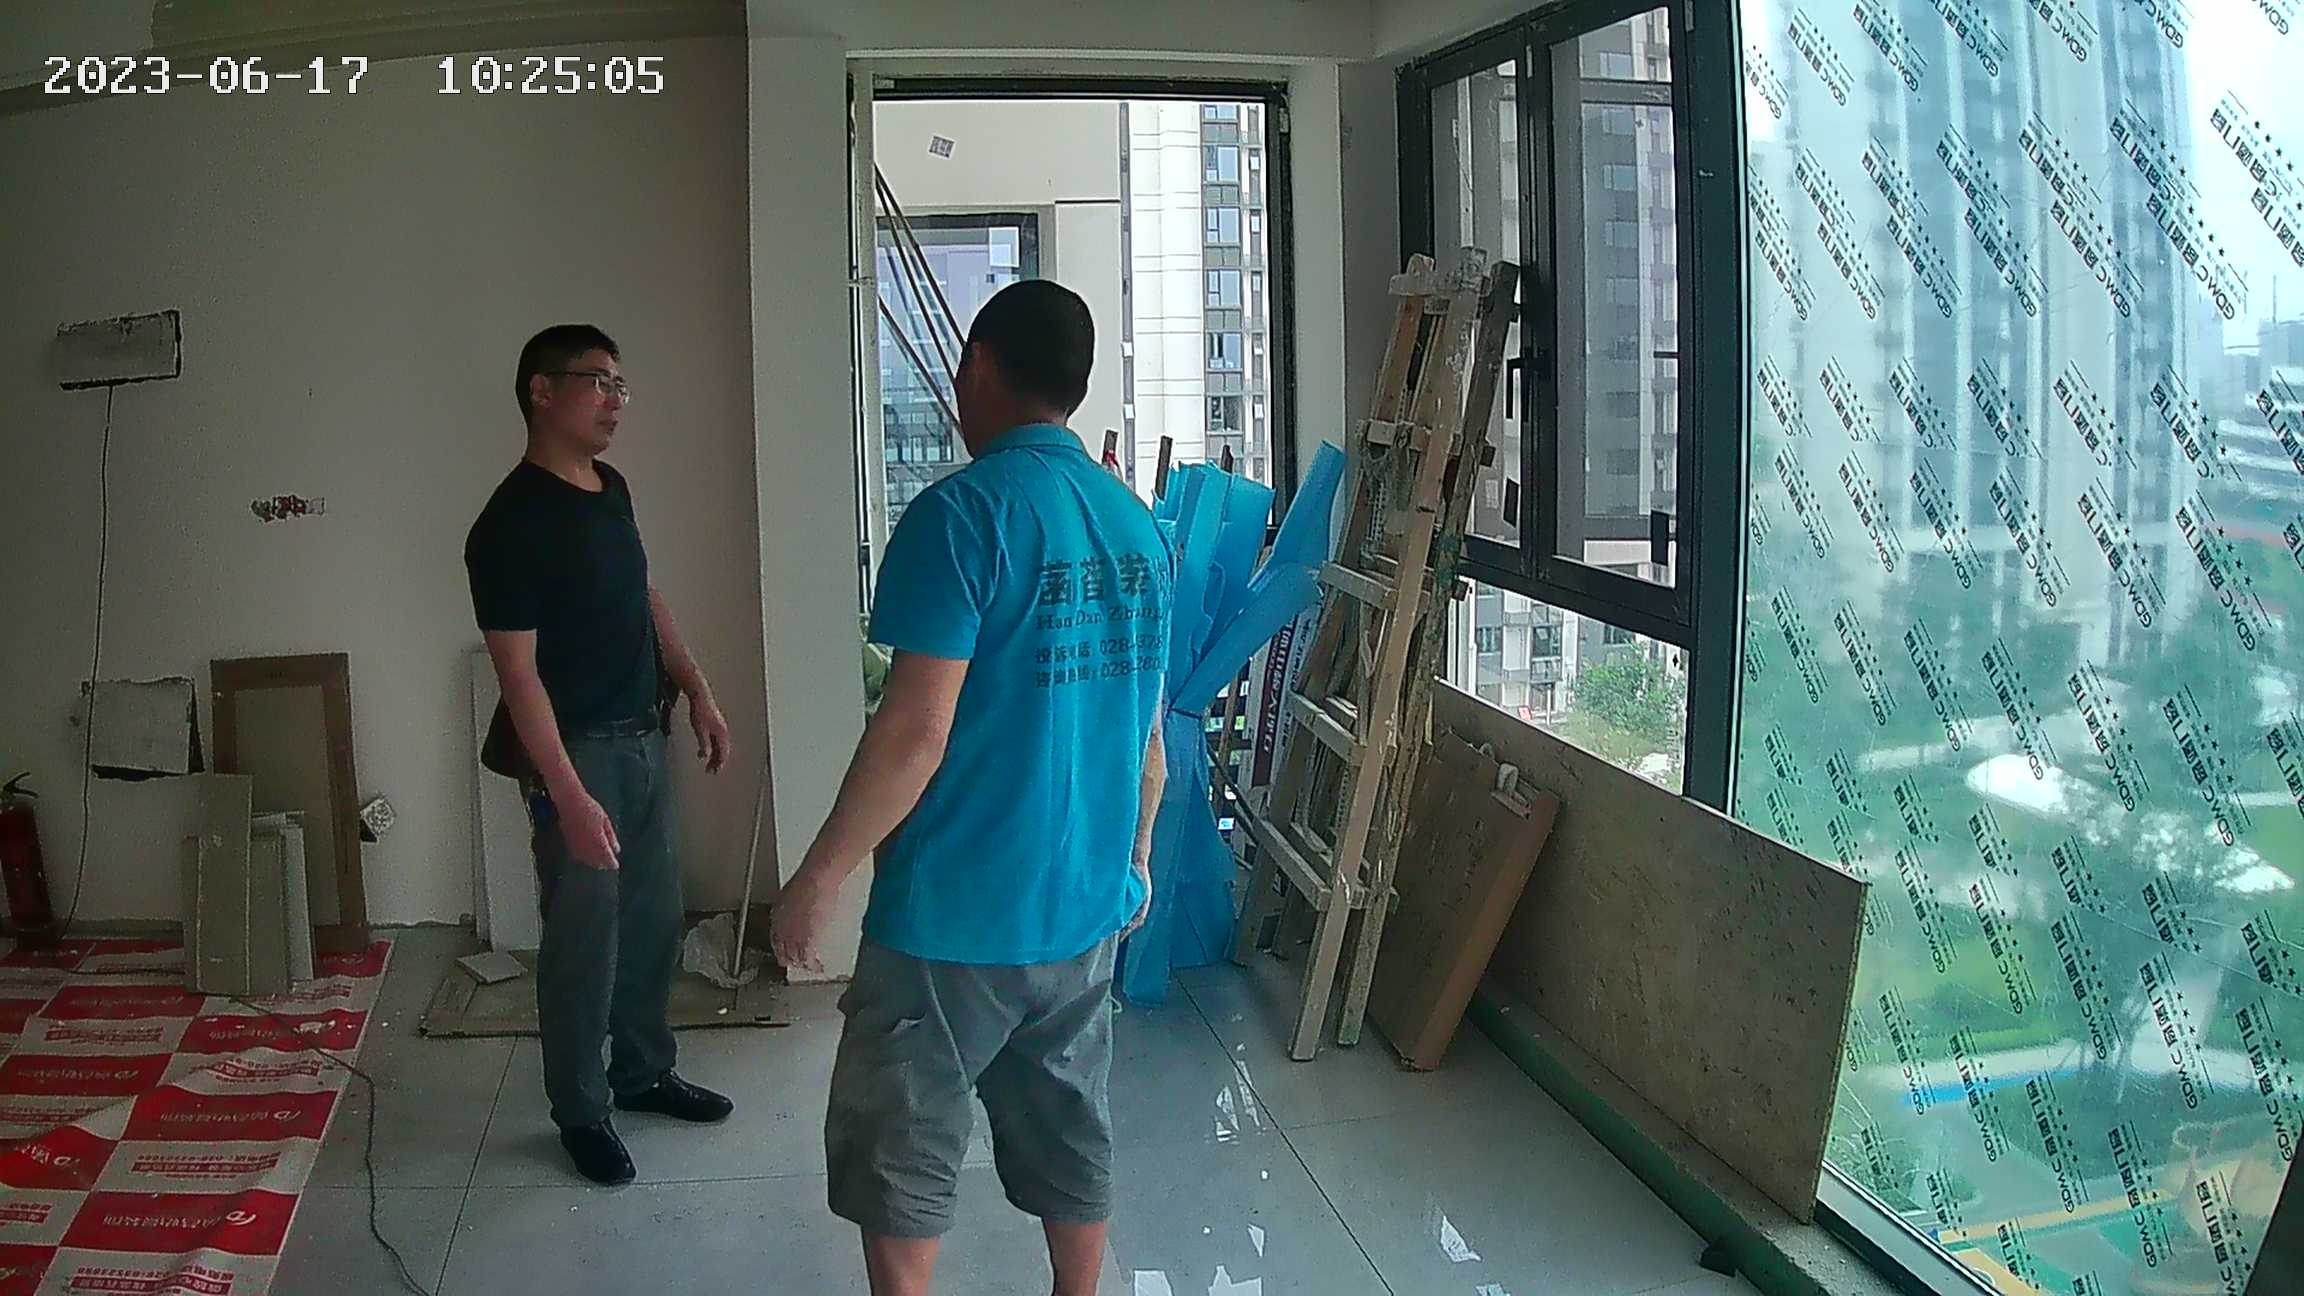people: (780, 285, 1178, 1295), (455, 318, 752, 1196)
window: (1389, 1, 2299, 1296)
